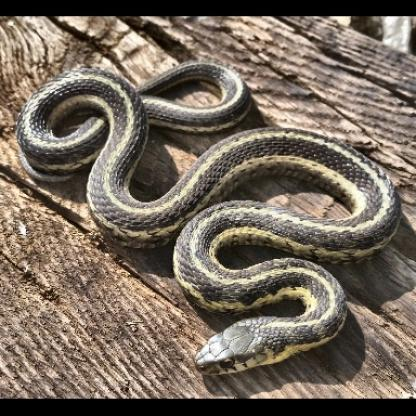Snake: (8, 60, 416, 376)
